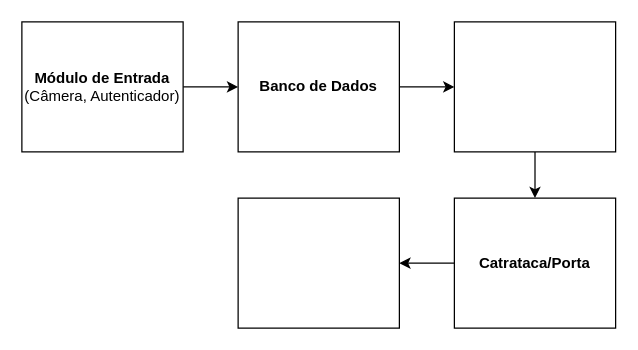
Some shapes in this 638 by 350 pixel diagram are drawn without their labels. The shapes that lost their labels are listed below. From the top down, each one's box as (x1, y1, x2, y2) in pixels, then its label:
(453, 21, 616, 152): Controlador de Acesso
(237, 197, 399, 328): Interface do Usuário
